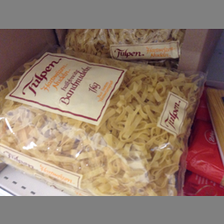pasta: (1, 46, 205, 196)
